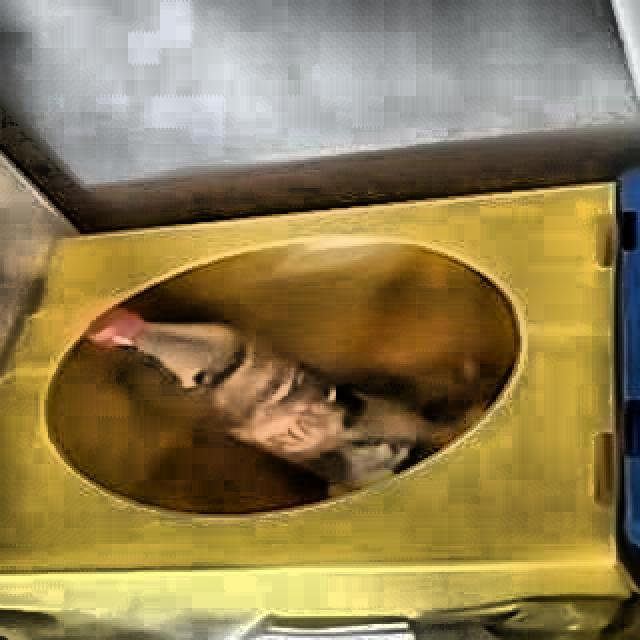plastic: (85, 308, 437, 496)
